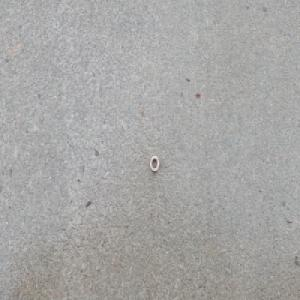Nut: (149, 155, 159, 172)
